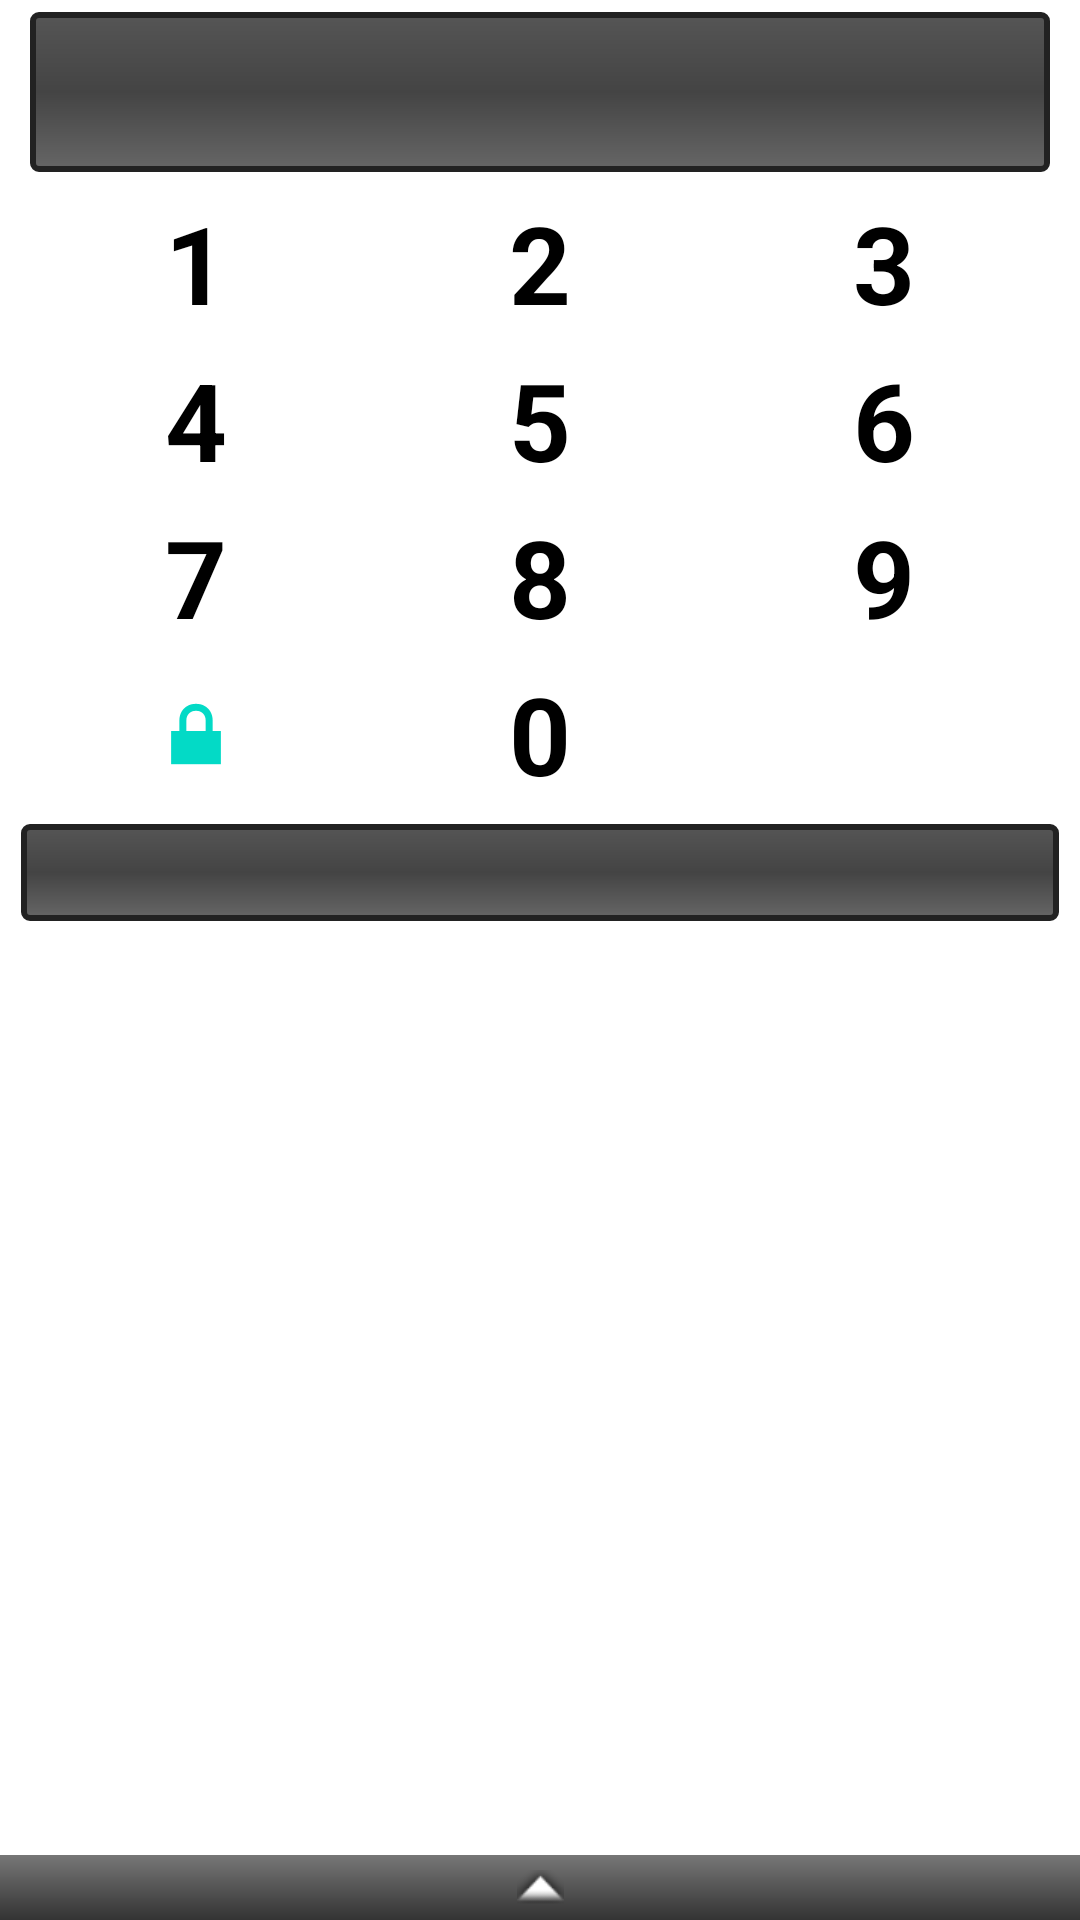

Where to tap for icons on this 1080x1920 app screen, as [x,y]:
lock: [196,734]
